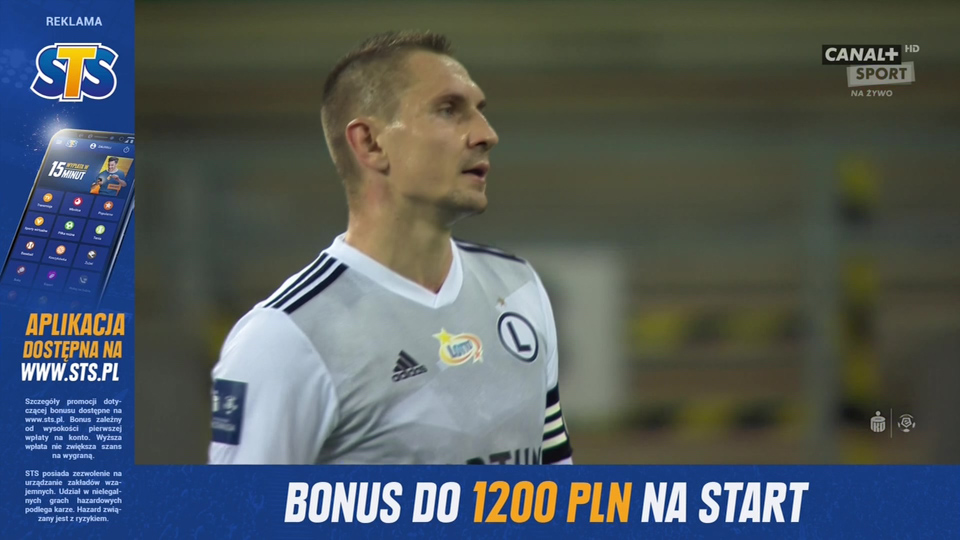Adidas: (390, 350, 429, 383)
